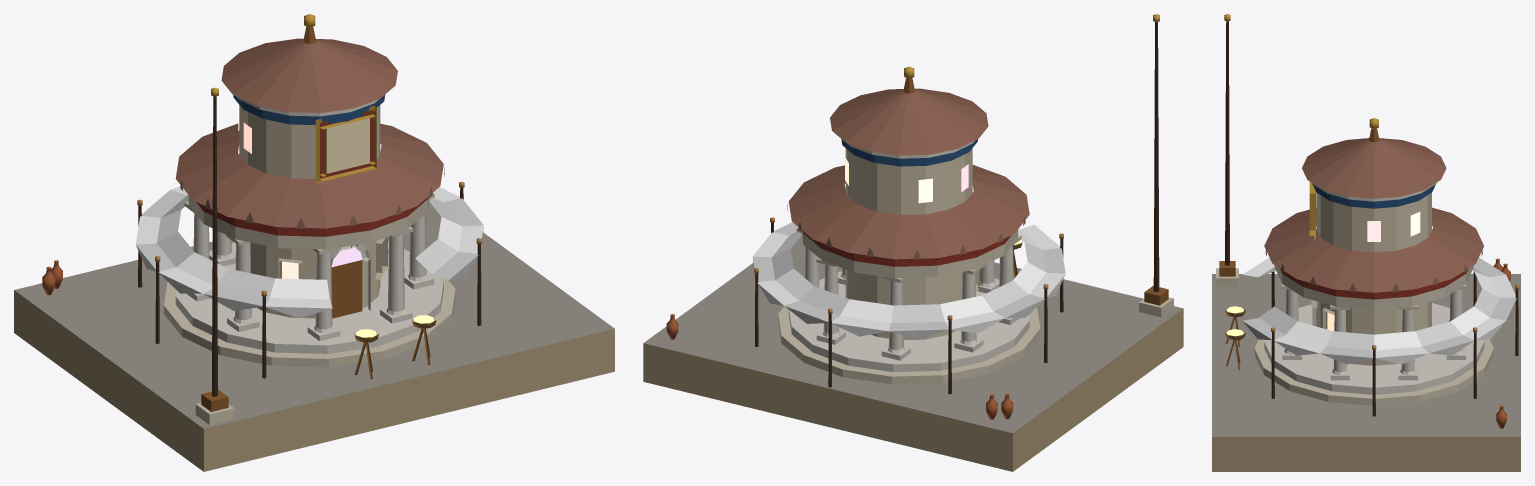
File: harbour-office-arbitrum.glb
3 views of the same model, side by side, from view 1: azimuth 30°, elevation 25°; view 2: azimuth 150°, elevation 25°; view 3: azimuth 270°, elevation 25° (orthographic). The views are drawn at different scales.
Visible parts, largest first — view 1: office_body, awning, crest_panel, office_body_windows; view 2: office_body, awning, office_body_windows; view 3: office_body, awning, office_body_windows.
Boxes of the visible parts, x1=… form: office_body: x1=14, y1=14, x2=614, y2=471; awning: x1=135, y1=186, x2=483, y2=318; crest_panel: x1=326, y1=118, x2=369, y2=173; office_body_windows: x1=238, y1=105, x2=362, y2=278; office_body: x1=643, y1=14, x2=1183, y2=471; awning: x1=752, y1=222, x2=1065, y2=339; office_body_windows: x1=845, y1=157, x2=968, y2=203; office_body: x1=1212, y1=14, x2=1520, y2=471; awning: x1=1242, y1=257, x2=1516, y2=364; office_body_windows: x1=1327, y1=212, x2=1420, y2=331.
Bounding box in the file's own units: 20 × 17.32 × 16.
